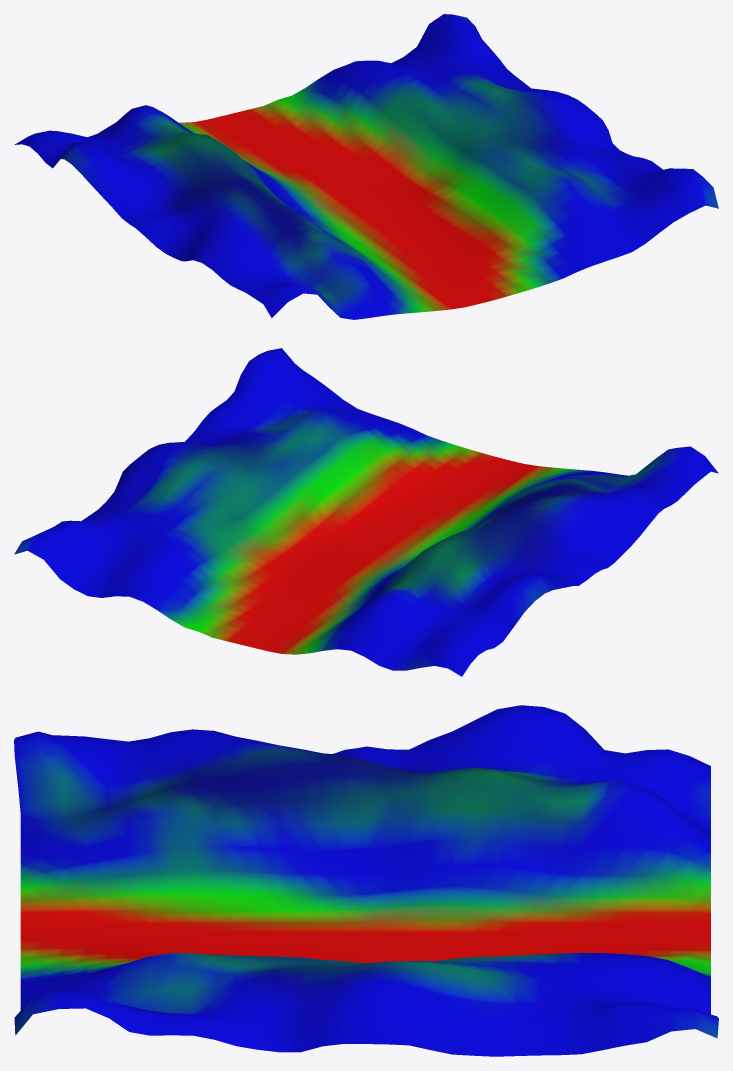
File: TestTerrain.fbx
The picture shows the model from 3 angles, top to bottom: view 1: azimuth 30°, elevation 25°; view 2: azimuth 150°, elevation 25°; view 3: azimuth 270°, elevation 25°; orthographic projection. The views are drawn at different scales.
Parts seen in each view (by area): view 1: TestTerrain; view 2: TestTerrain; view 3: TestTerrain.
Boxes of the visible parts, left/top/right/bottom form: TestTerrain: left=14, top=14, right=718, bottom=319; TestTerrain: left=14, top=348, right=718, bottom=676; TestTerrain: left=14, top=705, right=718, bottom=1056.
Bounding box in the file's own units: 1677 × 237 × 1635.
